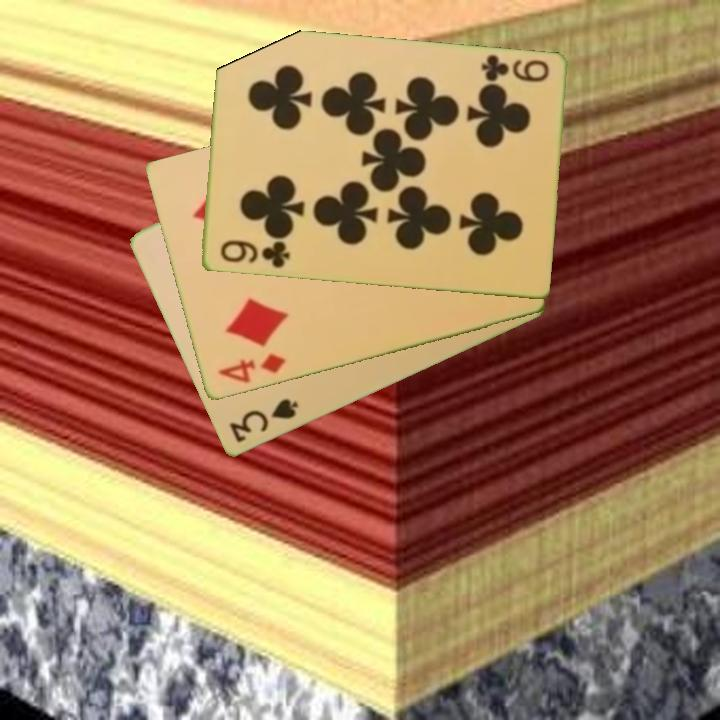3s: (225, 395, 301, 446)
4d: (214, 350, 288, 387)
9c: (216, 236, 292, 272), (477, 51, 552, 86)
